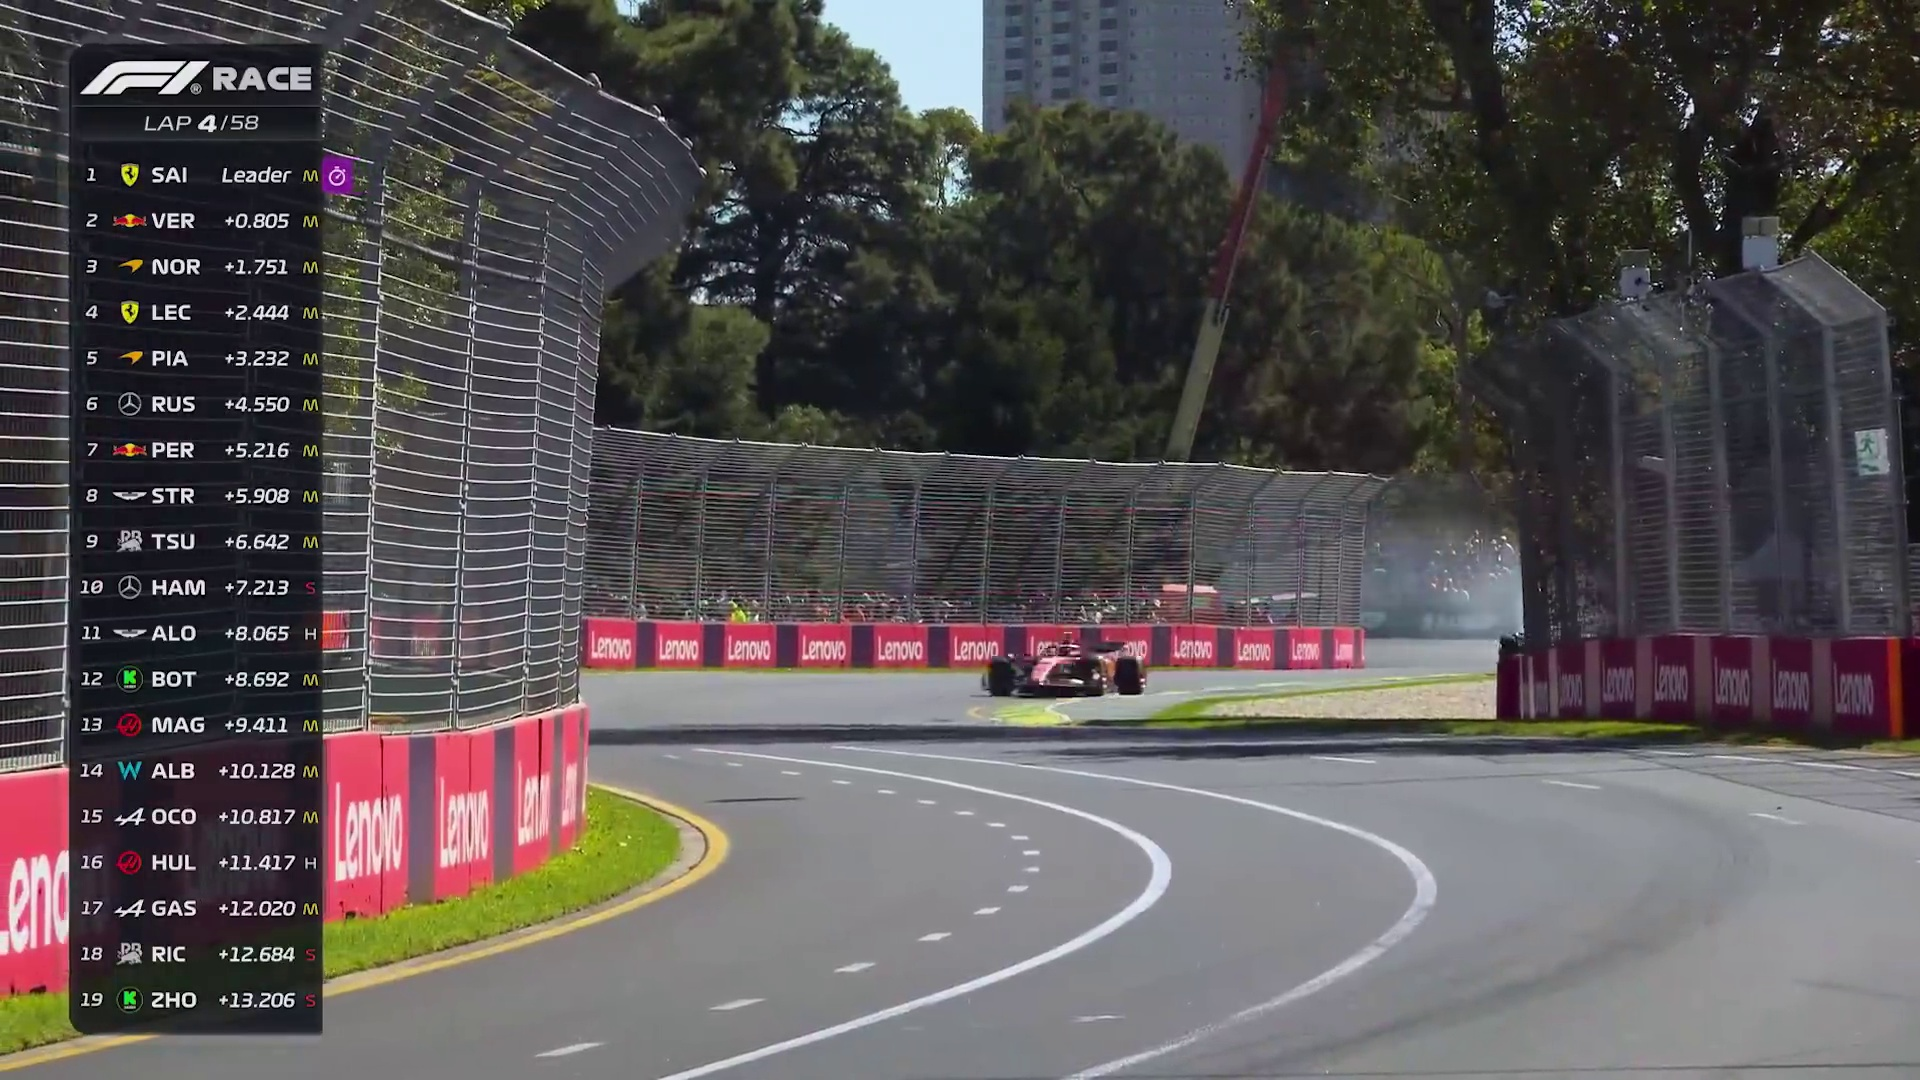Ferrari: (993, 634, 1143, 699)
